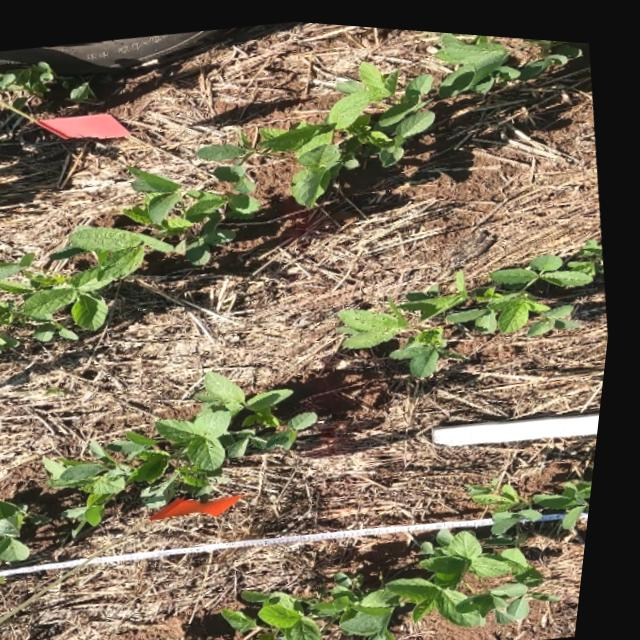soy_plant: (0, 25, 581, 352), (235, 456, 603, 640), (53, 368, 325, 527), (348, 238, 603, 341), (0, 61, 95, 101), (0, 494, 42, 580), (344, 303, 412, 341), (402, 319, 449, 367)
